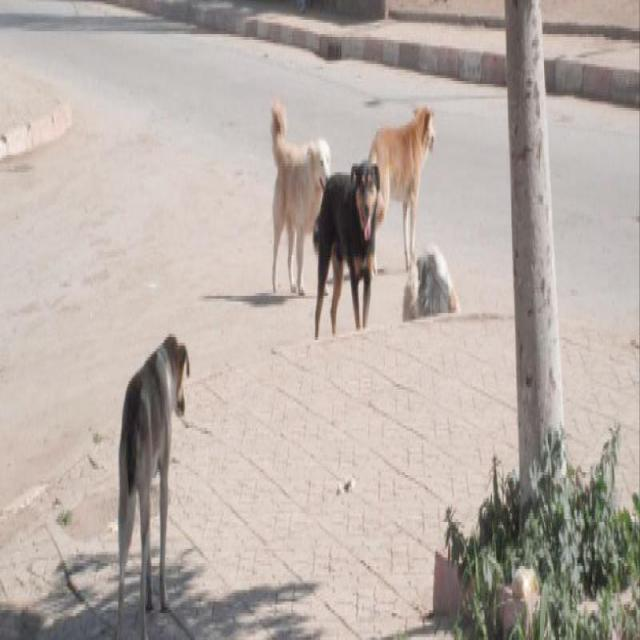dog: (96, 298, 221, 602), (260, 69, 335, 320), (362, 82, 460, 274), (315, 155, 394, 341)
